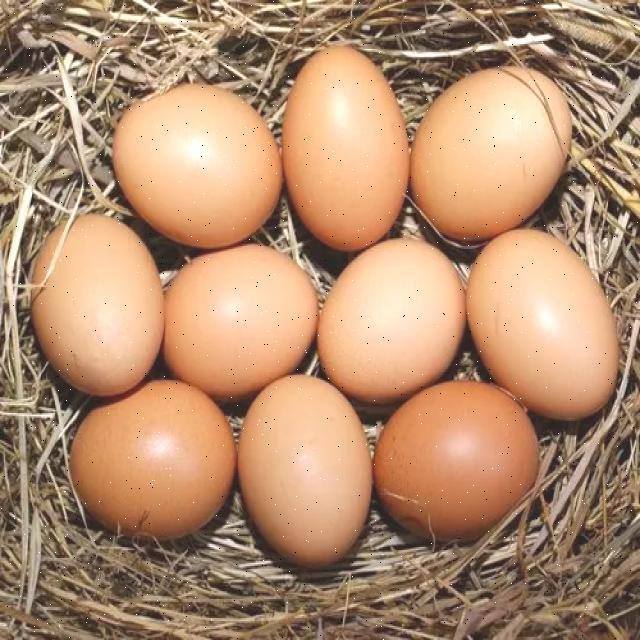Egg: (407, 15, 600, 231), (16, 191, 171, 394), (388, 393, 554, 563), (50, 401, 225, 556), (278, 40, 409, 240), (476, 232, 623, 401), (250, 389, 378, 578), (319, 238, 475, 390), (156, 237, 315, 382), (115, 91, 271, 217)
